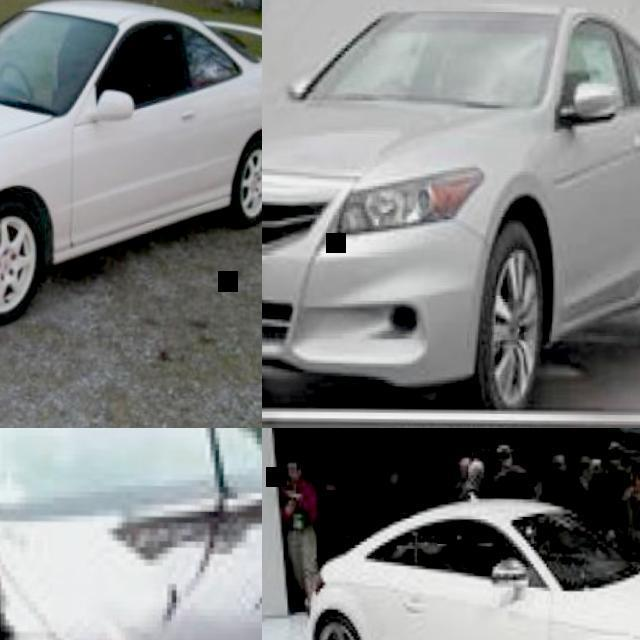car: (260, 0, 637, 405), (0, 0, 262, 319), (302, 495, 619, 639)
